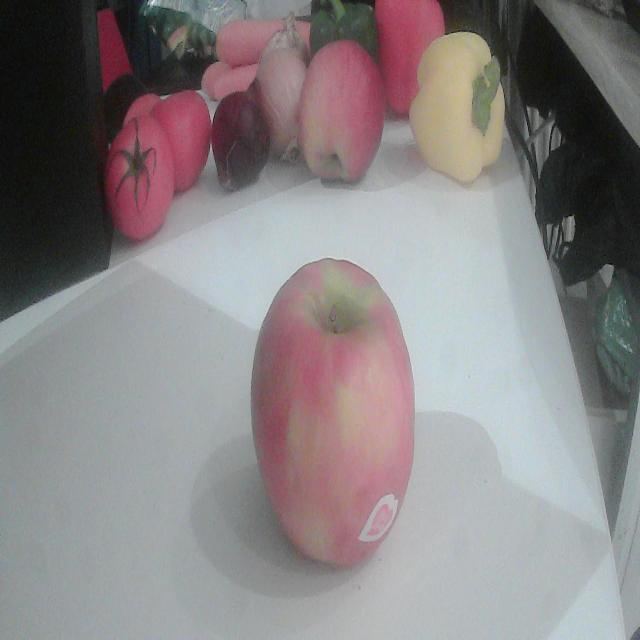Apple: (251, 259, 414, 566), (298, 40, 386, 182)
Bell Pepper: (410, 32, 504, 183)
Onion: (254, 29, 309, 163), (210, 84, 270, 190)
Tomato: (105, 116, 174, 240), (150, 91, 211, 194)
